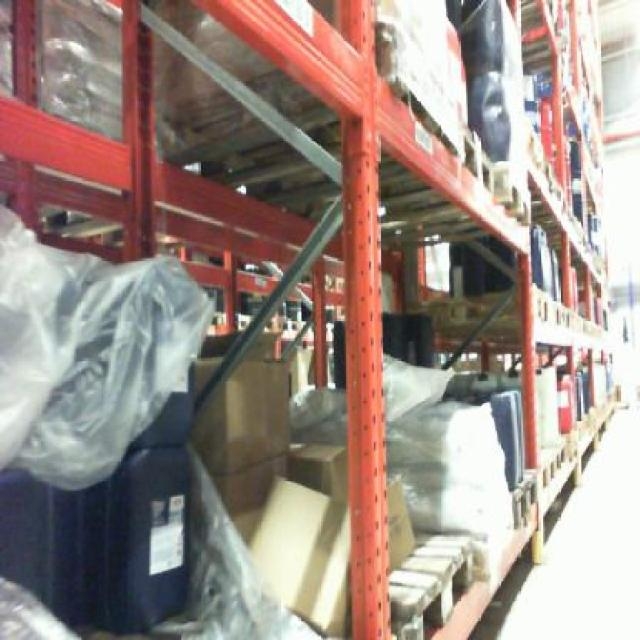ground: (471, 412, 638, 638)
pallet: (386, 533, 489, 640), (511, 432, 576, 529), (530, 290, 606, 341), (494, 158, 533, 228), (459, 126, 497, 197)
